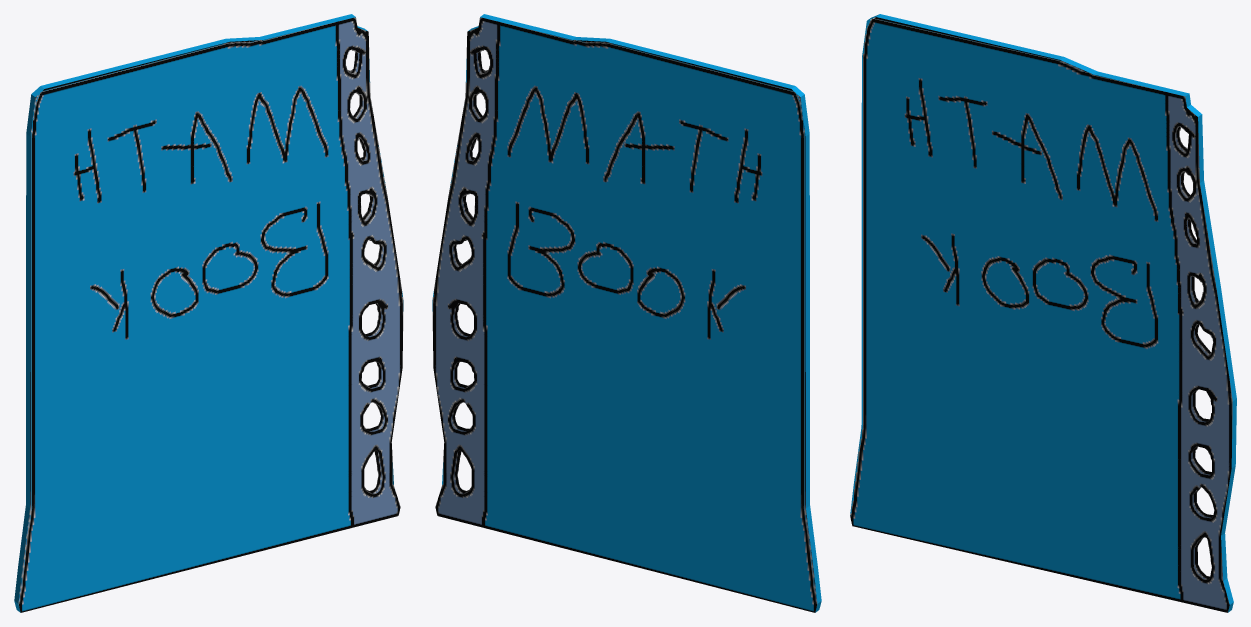
File: maths book.fbx
The picture shows the model from 3 angles, left to right: view 1: azimuth 30°, elevation 25°; view 2: azimuth 150°, elevation 25°; view 3: azimuth 330°, elevation 25°; orthographic projection.
Parts seen in each view (by area): view 1: Cube; view 2: Cube; view 3: Cube.
Part boxes in pixels (x1,y1,x2,y2): Cube: (14, 14, 403, 612); Cube: (432, 14, 821, 612); Cube: (850, 14, 1236, 612).
Bounding box in the file's own units: 194 × 250 × 3.64.
